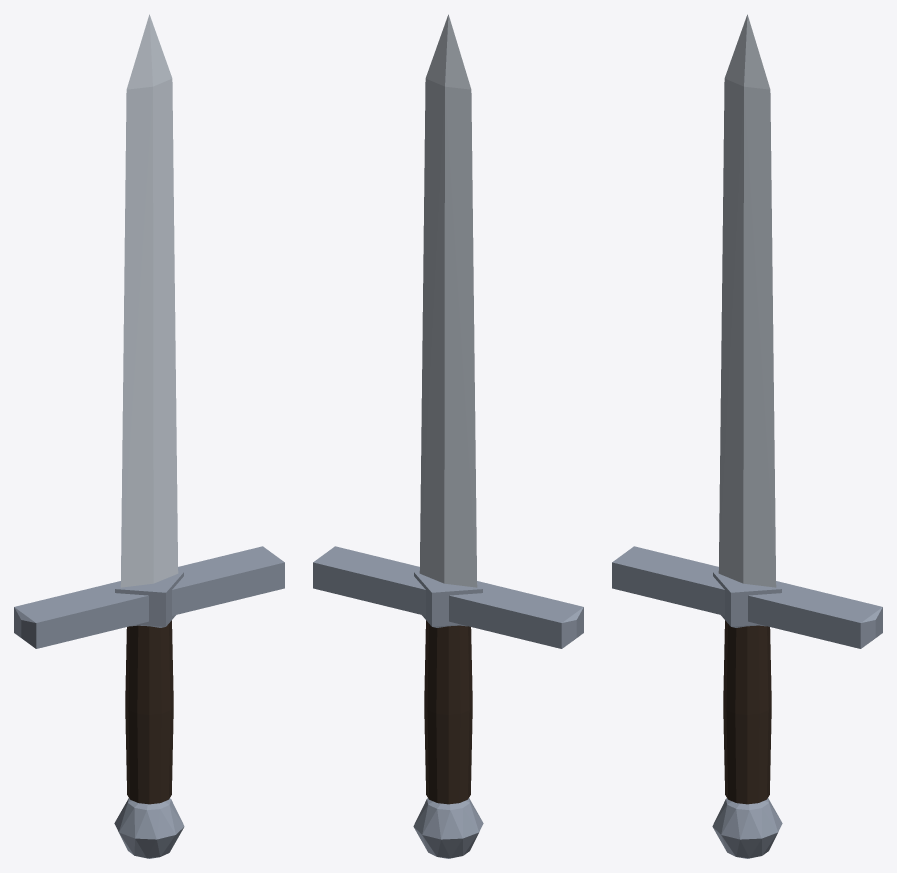
File: Epee_P1.fbx
3 renders of one model, left to right at view 1: azimuth 30°, elevation 25°; view 2: azimuth 150°, elevation 25°; view 3: azimuth 330°, elevation 25°, orthographic.
Parts seen in each view (by area): view 1: Epee_P1_Lame, Epee_P1_Garde, Epee_P1_Poignee; view 2: Epee_P1_Lame, Epee_P1_Garde, Epee_P1_Poignee; view 3: Epee_P1_Lame, Epee_P1_Garde, Epee_P1_Poignee.
Part boxes in pixels (box(x1,y1,x2,y2)): Epee_P1_Lame: box(120, 14, 178, 587); Epee_P1_Garde: box(14, 546, 284, 858); Epee_P1_Poignee: box(125, 620, 173, 804); Epee_P1_Lame: box(419, 14, 477, 587); Epee_P1_Garde: box(313, 546, 583, 858); Epee_P1_Poignee: box(424, 620, 472, 804); Epee_P1_Lame: box(718, 14, 776, 587); Epee_P1_Garde: box(612, 546, 882, 858); Epee_P1_Poignee: box(723, 620, 771, 804).
Bounding box in the file's own units: 1.34 × 4.22 × 0.3043.
